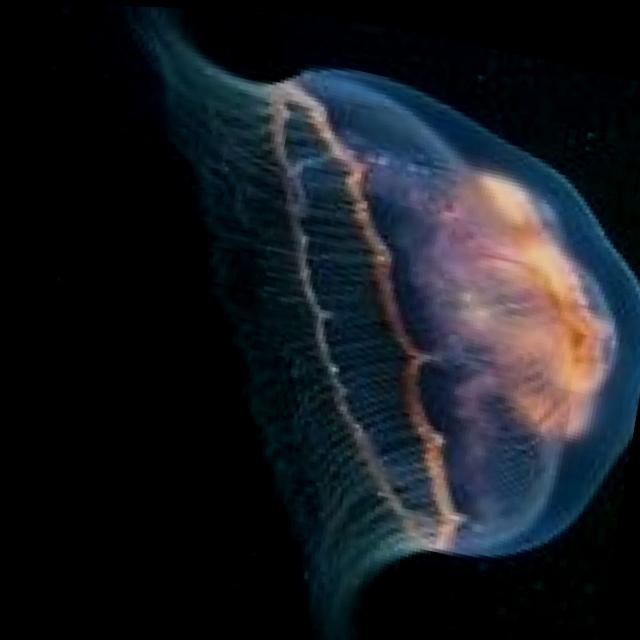Box-jellyfish: (17, 1, 640, 640)
